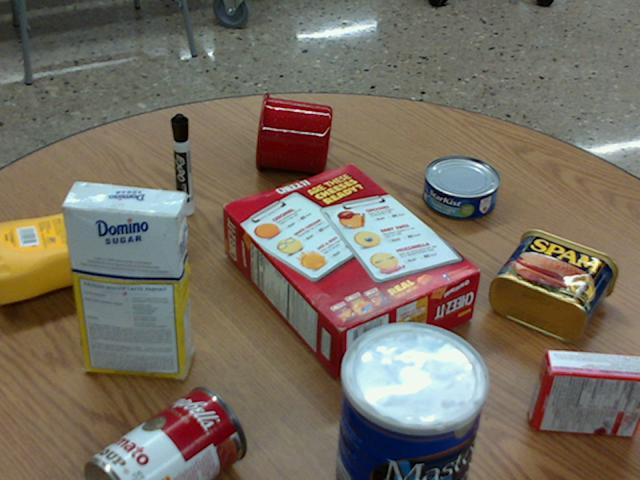cracker_box: (221, 164, 478, 373)
gelatin_box: (529, 348, 639, 435)
large_marker: (171, 114, 192, 214)
master_chef_can: (335, 322, 486, 479)
mug: (256, 92, 331, 173)
mustard_bottle: (0, 205, 181, 303)
potted_meat_can: (490, 228, 617, 342)
sugar_box: (61, 181, 189, 379)
tomato_soup_can: (86, 386, 246, 479)
tuna_fish_can: (423, 155, 499, 218)
